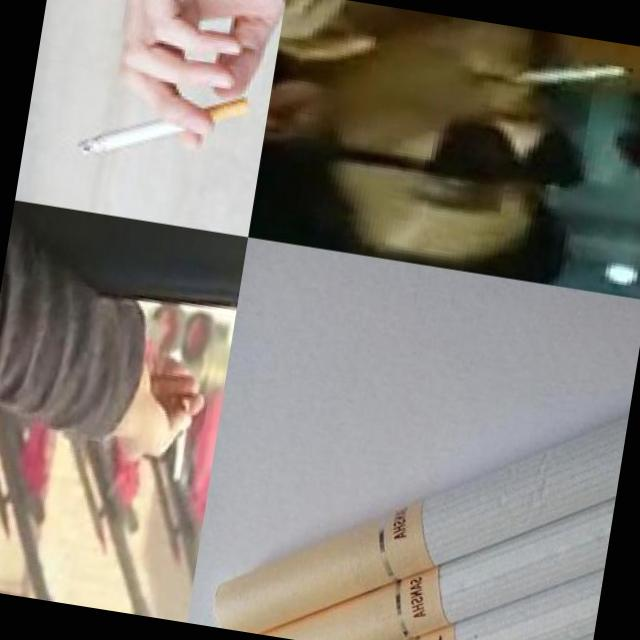smoke: (207, 282, 639, 640), (239, 359, 628, 640), (269, 428, 618, 640), (294, 494, 607, 640), (74, 72, 252, 182), (500, 47, 635, 106), (167, 429, 191, 489)
